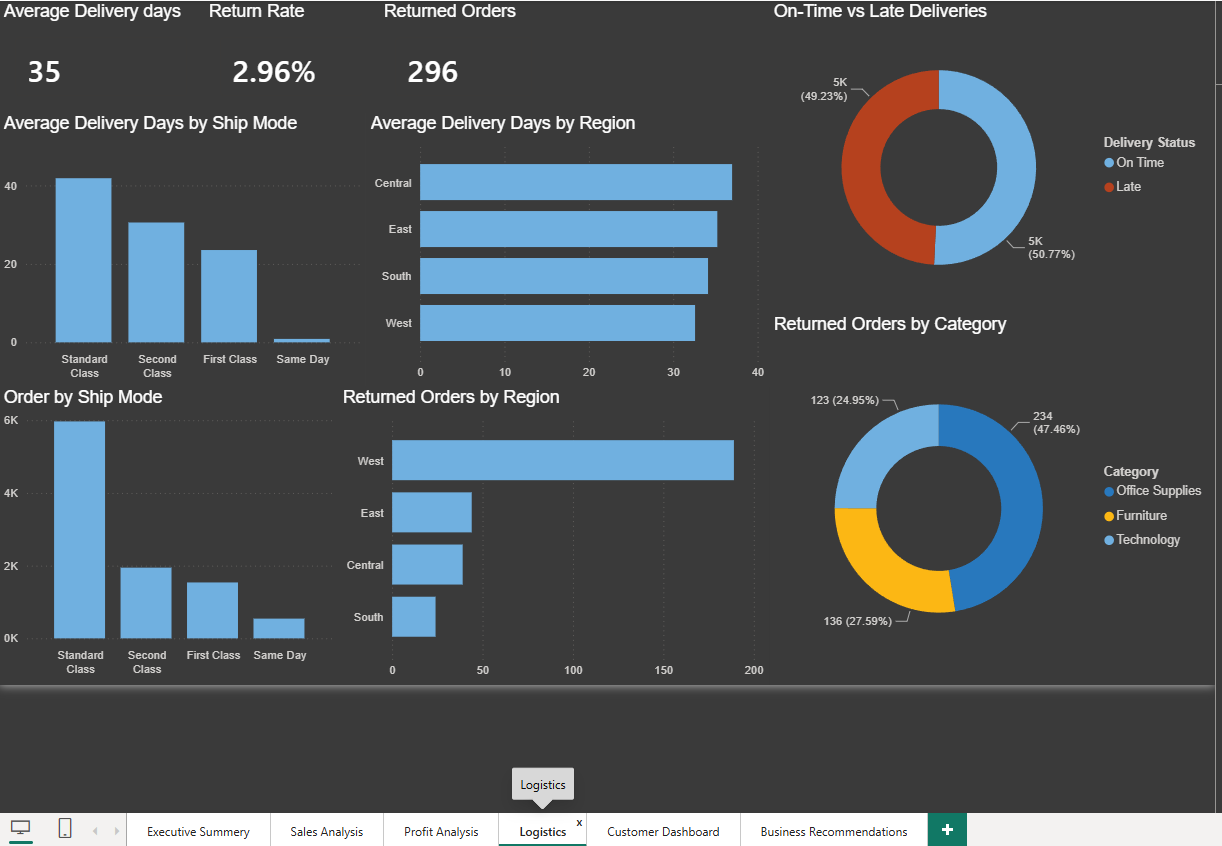

The page's visual inventory and layout, read from the dashboard file:
{"tool":"powerbi","page":{"name":"Logistics","canvas":[1280,720],"ordinal":3},"visuals":[{"type":"cardVisual","title":"Average Delivery days","fields":{"Data":["_Measures.Average Delivery Days"]},"box":[0,0,215.8,117.9],"z":0},{"type":"cardVisual","title":"Return Rate","fields":{"Data":["_Measures.Return Rate %"]},"box":[215.8,0,184.2,117.9],"z":1},{"type":"cardVisual","title":"Returned Orders","fields":{"Data":["_Measures.Returned Orders"]},"box":[400,0,178.9,117.9],"z":2},{"type":"clusteredColumnChart","fields":{"Category":["FactOrders.Ship Mode"],"Y":["_Measures.Average Delivery Days"]},"box":[0,117.9,386.3,288.4],"z":3},{"type":"donutChart","fields":{"Category":["FactOrders.Category"],"Y":["_Measures.Returned Orders"]},"box":[810.5,329.5,469.5,388.4],"z":4},{"type":"clusteredBarChart","fields":{"Y":["_Measures.Average Delivery Days"],"Category":["FactOrders.Region"]},"box":[386.3,117.9,424.2,288.4],"z":5},{"type":"clusteredBarChart","fields":{"Category":["FactOrders.Region"],"Y":["_Measures.Returned Orders"]},"box":[356.8,406.3,453.7,313.7],"z":6},{"type":"donutChart","title":"On-Time vs Late Deliveries","fields":{"Category":["FactOrders.Delivery Status"],"Y":["_Measures.Total Orders"]},"box":[810.5,0,469.5,329.5],"z":7},{"type":"clusteredColumnChart","title":"Order by Ship Mode","fields":{"Y":["_Measures.Total Orders"],"Category":["FactOrders.Ship Mode"]},"box":[0,406.3,356.8,311.6],"z":8}]}

Visuals, with their boxes on the page's 1280x720 design canvas (x1, y1, x2, y2). These are canvas units, not pixel positions in the 1222x846 screenshot, which may show the page scaled, cropped or inside an application window:
"Average Delivery days" cardVisual: (x1=0, y1=0, x2=216, y2=118)
"Return Rate" cardVisual: (x1=216, y1=0, x2=400, y2=118)
"Returned Orders" cardVisual: (x1=400, y1=0, x2=579, y2=118)
clusteredColumnChart - FactOrders.Ship Mode x _Measures.Average Delivery Days: (x1=0, y1=118, x2=386, y2=406)
donutChart - FactOrders.Category x _Measures.Returned Orders: (x1=810, y1=330, x2=1280, y2=718)
clusteredBarChart - _Measures.Average Delivery Days x FactOrders.Region: (x1=386, y1=118, x2=810, y2=406)
clusteredBarChart - FactOrders.Region x _Measures.Returned Orders: (x1=357, y1=406, x2=810, y2=720)
"On-Time vs Late Deliveries" donutChart: (x1=810, y1=0, x2=1280, y2=330)
"Order by Ship Mode" clusteredColumnChart: (x1=0, y1=406, x2=357, y2=718)
